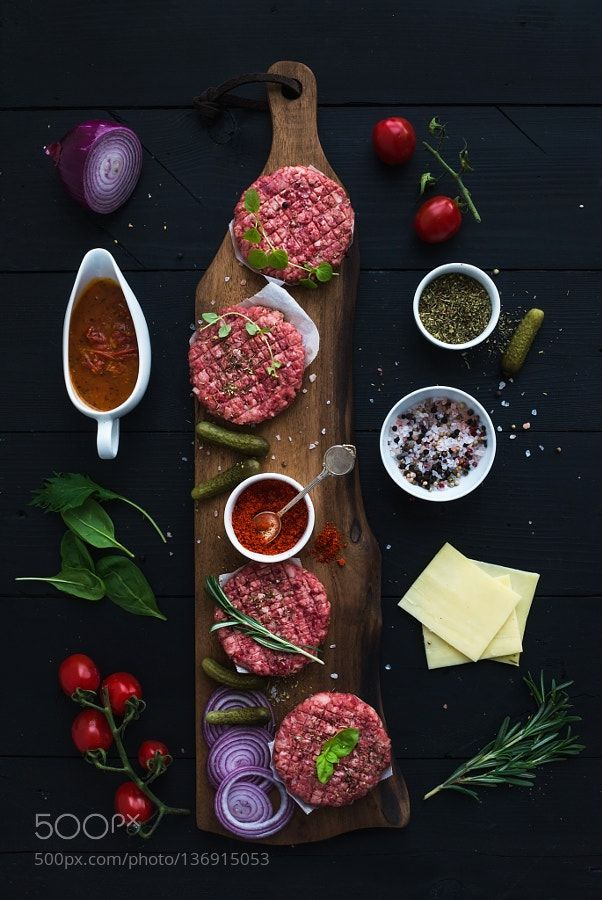ground_beef: (258, 673, 406, 818), (179, 284, 317, 433), (200, 549, 334, 668), (218, 173, 344, 282)
